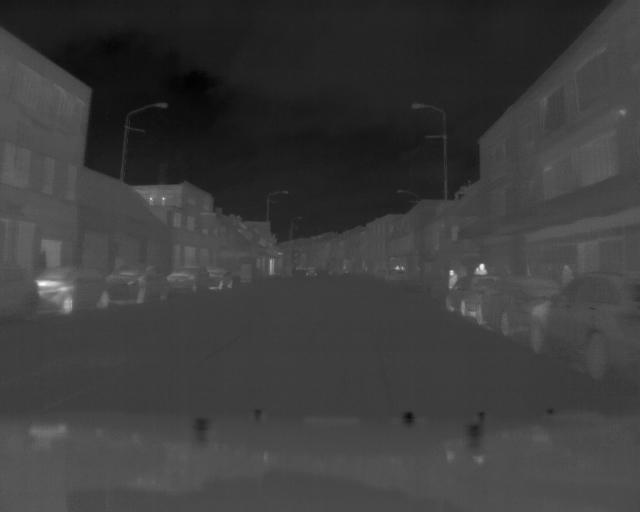car: (532, 284, 638, 378), (477, 281, 561, 335), (30, 263, 112, 317), (111, 262, 174, 310), (204, 263, 237, 295)
person: (446, 265, 458, 294)
